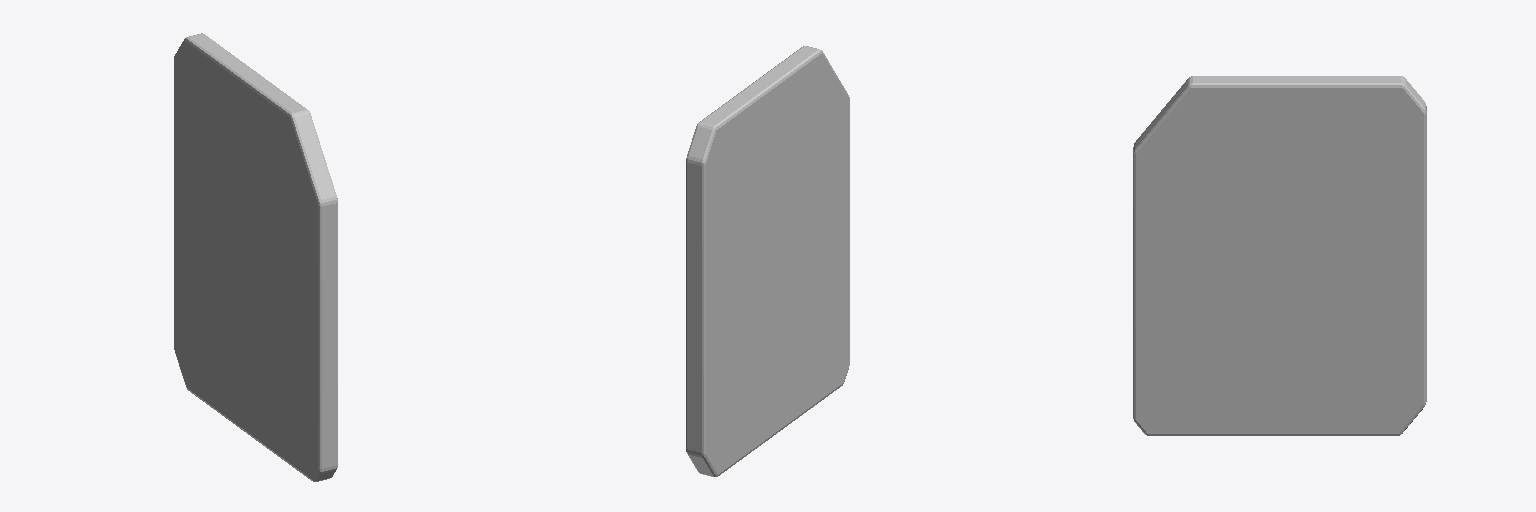
Rendered from Relica.obj.
3 renders of one model, left to right at view 1: azimuth 30°, elevation 25°; view 2: azimuth 150°, elevation 25°; view 3: azimuth 270°, elevation 25°, orthographic.
Visible parts, largest first — view 1: Relica_Cube.021; view 2: Relica_Cube.021; view 3: Relica_Cube.021.
Boxes of the visible parts, box(x1,y1,x2,y2) form: Relica_Cube.021: box(174, 33, 337, 481); Relica_Cube.021: box(686, 46, 849, 476); Relica_Cube.021: box(1133, 76, 1426, 435).
Size of the model in its own units: 0.0471 by 0.8113 by 0.6118.